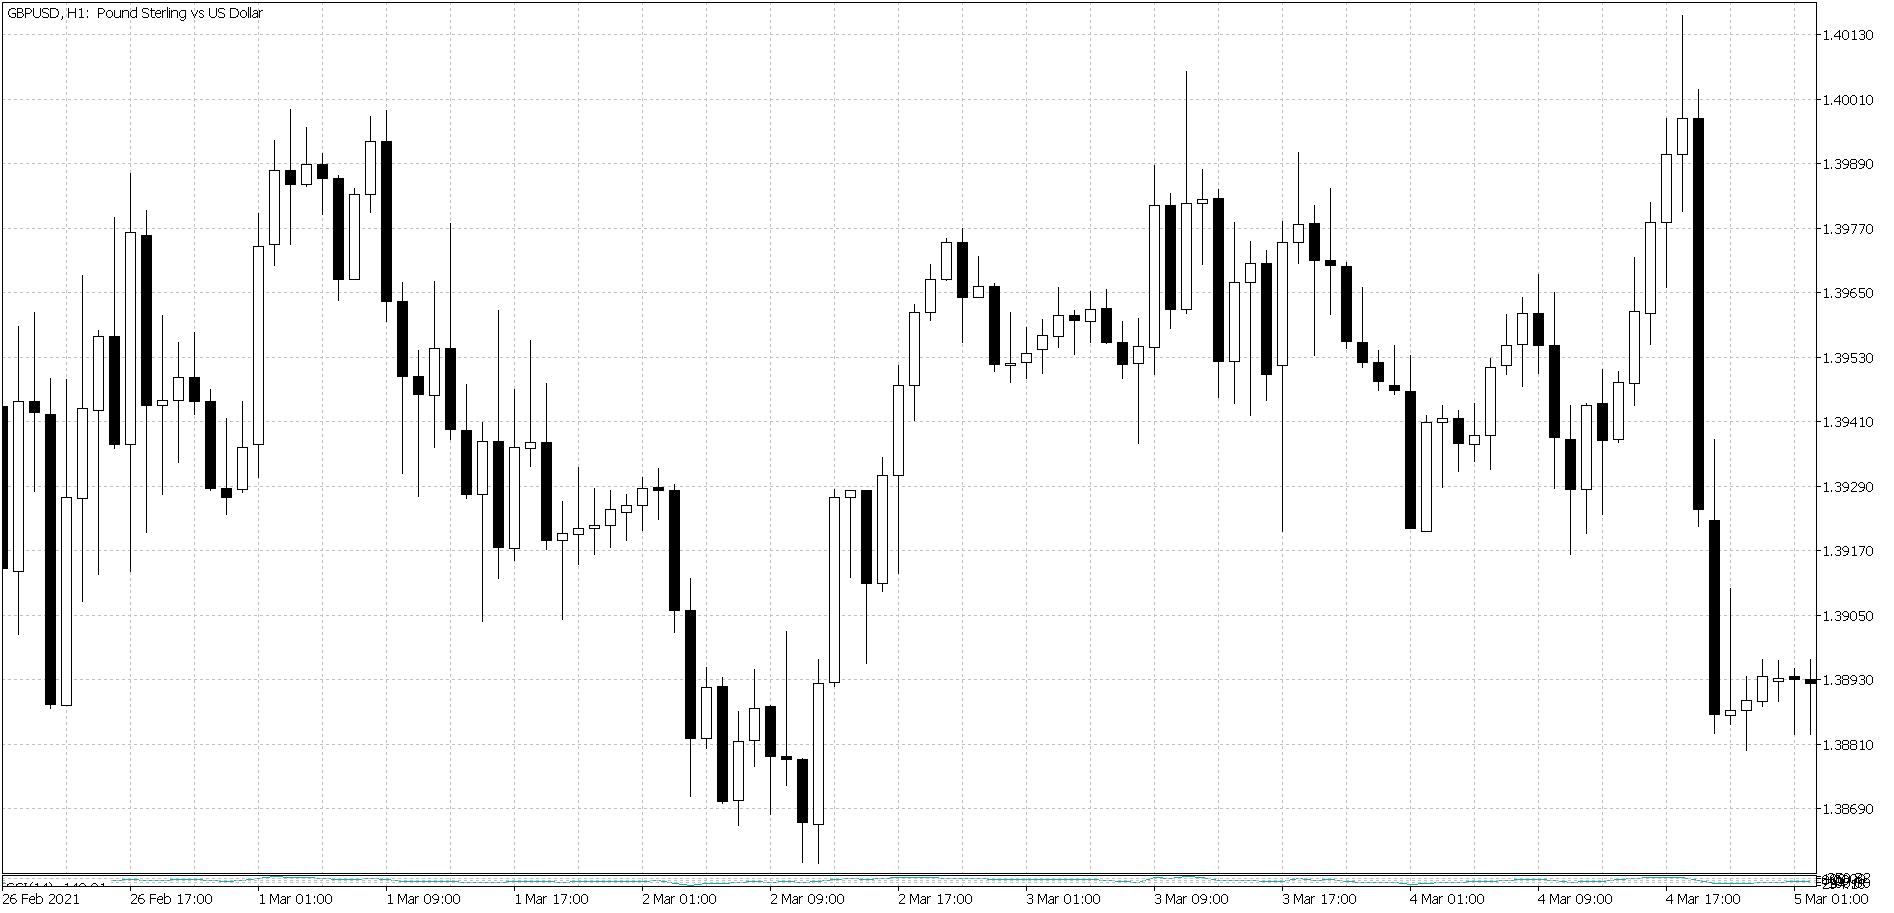bearishEngulfing: (940, 225, 971, 339)
bullishEngulfing: (1563, 401, 1594, 540)
eveningStar: (1420, 399, 1466, 539)
hammer: (842, 485, 856, 586)
morningDojiStar: (987, 268, 1035, 385)
morningStar: (202, 378, 250, 513)
